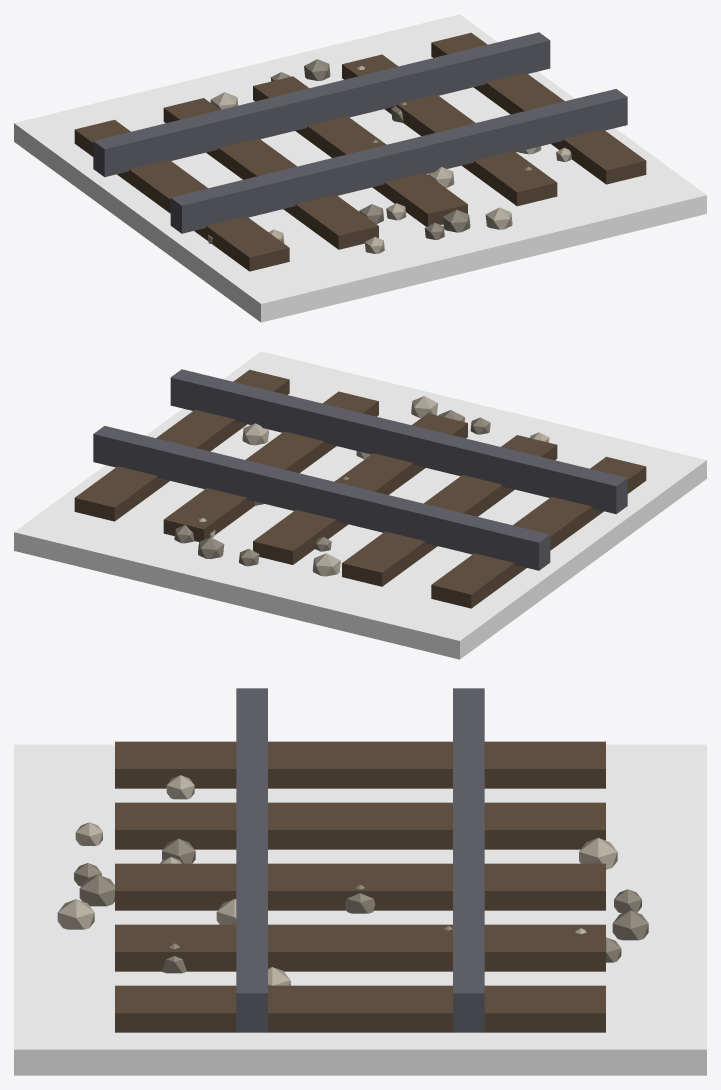
Rendered from rail_half.glb.
3 views of the same model, one above another, from view 1: azimuth 30°, elevation 25°; view 2: azimuth 150°, elevation 25°; view 3: azimuth 270°, elevation 25° (orthographic). The views are drawn at different scales.
Visible parts, largest first — view 1: BALLAST, RAIL_0.075, RAIL_-0.075, SLEEPER_0, SLEEPER_1, SLEEPER_4, SLEEPER_3, SLEEPER_2, GRAVEL_2, GRAVEL_23; view 2: BALLAST, RAIL_0.075, RAIL_-0.075, SLEEPER_0, SLEEPER_1, SLEEPER_4, SLEEPER_2, SLEEPER_3, GRAVEL_17; view 3: BALLAST, SLEEPER_4, SLEEPER_0, SLEEPER_3, SLEEPER_1, SLEEPER_2, RAIL_0.075, RAIL_-0.075, GRAVEL_2, GRAVEL_23, GRAVEL_12, GRAVEL_17 (+1 smaller).
Boxes of the visible parts, box(x1,y1,x2,y2) form: BALLAST: box(14, 14, 706, 322); RAIL_0.075: box(93, 32, 550, 177); RAIL_-0.075: box(170, 89, 627, 233); SLEEPER_0: box(74, 119, 289, 271); SLEEPER_1: box(163, 98, 378, 249); SLEEPER_4: box(431, 32, 646, 184); SLEEPER_3: box(342, 54, 557, 206); SLEEPER_2: box(253, 76, 467, 226); GRAVEL_2: box(442, 209, 470, 232); GRAVEL_23: box(485, 207, 512, 229); BALLAST: box(14, 351, 706, 659); RAIL_0.075: box(93, 426, 550, 570); RAIL_-0.075: box(170, 369, 627, 514); SLEEPER_0: box(431, 456, 646, 608); SLEEPER_1: box(342, 435, 557, 586); SLEEPER_4: box(74, 369, 289, 521); SLEEPER_2: box(253, 413, 467, 564); SLEEPER_3: box(163, 391, 378, 541); GRAVEL_17: box(312, 553, 340, 576); BALLAST: box(14, 744, 706, 1075); SLEEPER_4: box(115, 985, 605, 1032); SLEEPER_0: box(115, 741, 605, 788); SLEEPER_3: box(115, 924, 605, 971); SLEEPER_1: box(115, 802, 605, 849); SLEEPER_2: box(115, 863, 605, 910); RAIL_0.075: box(453, 688, 484, 1032); RAIL_-0.075: box(236, 688, 267, 1032); GRAVEL_2: box(79, 875, 114, 906); GRAVEL_23: box(57, 899, 94, 929); GRAVEL_12: box(612, 910, 648, 940); GRAVEL_17: box(579, 838, 617, 869).
Bounding box in the file's own units: 0.5 × 0.063 × 0.48.
